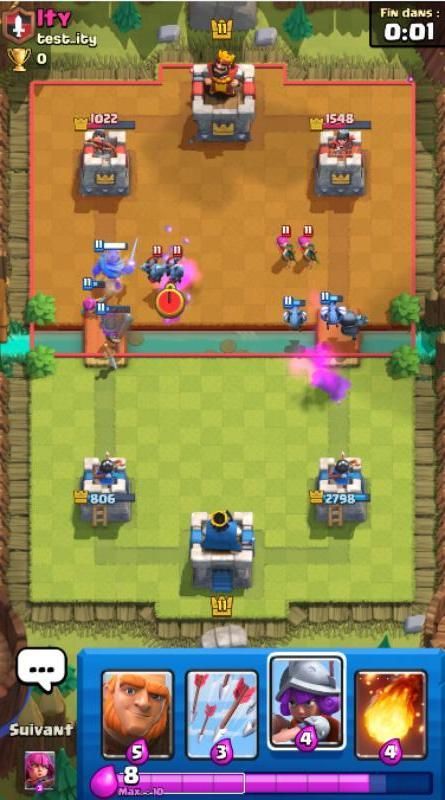enemy_archers: (296, 226, 322, 264), (273, 227, 299, 262)
enemy_minions: (164, 246, 196, 288), (141, 246, 168, 284)
player_knight: (89, 237, 140, 293)
player_minions: (278, 294, 311, 329), (316, 289, 346, 322)
